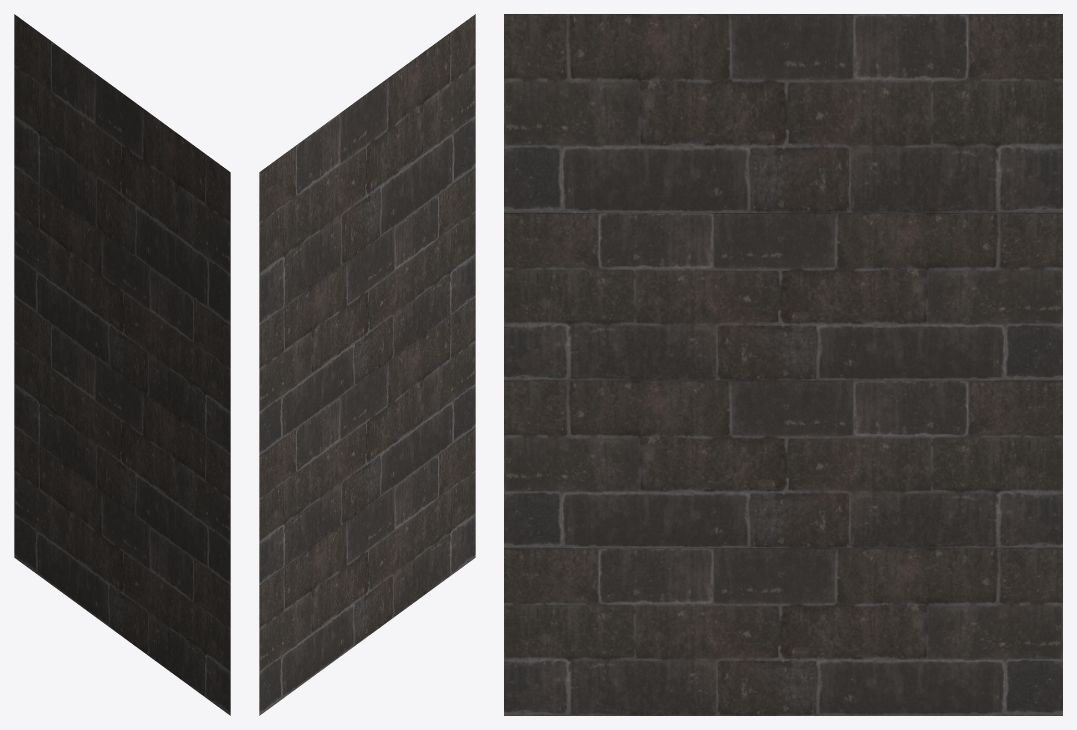
File: Psychiatric_Ward_Basement_Upper_Wall_2m.glb
The picture shows the model from 3 angles, left to right: view 1: azimuth 30°, elevation 25°; view 2: azimuth 150°, elevation 25°; view 3: azimuth 270°, elevation 25°; orthographic projection. The views are drawn at different scales.
Visible parts, largest first — view 1: Psychiatric_Ward_Basement_Upper_Wall_2m; view 2: Psychiatric_Ward_Basement_Upper_Wall_2m; view 3: Psychiatric_Ward_Basement_Upper_Wall_2m.
Boxes of the visible parts, x1=… form: Psychiatric_Ward_Basement_Upper_Wall_2m: x1=14, y1=14, x2=230, y2=715; Psychiatric_Ward_Basement_Upper_Wall_2m: x1=259, y1=14, x2=475, y2=715; Psychiatric_Ward_Basement_Upper_Wall_2m: x1=504, y1=14, x2=1062, y2=715.
Bounding box in the file's own units: 4.39e-05 × 2.77 × 2.
1 material, 1 textured.
